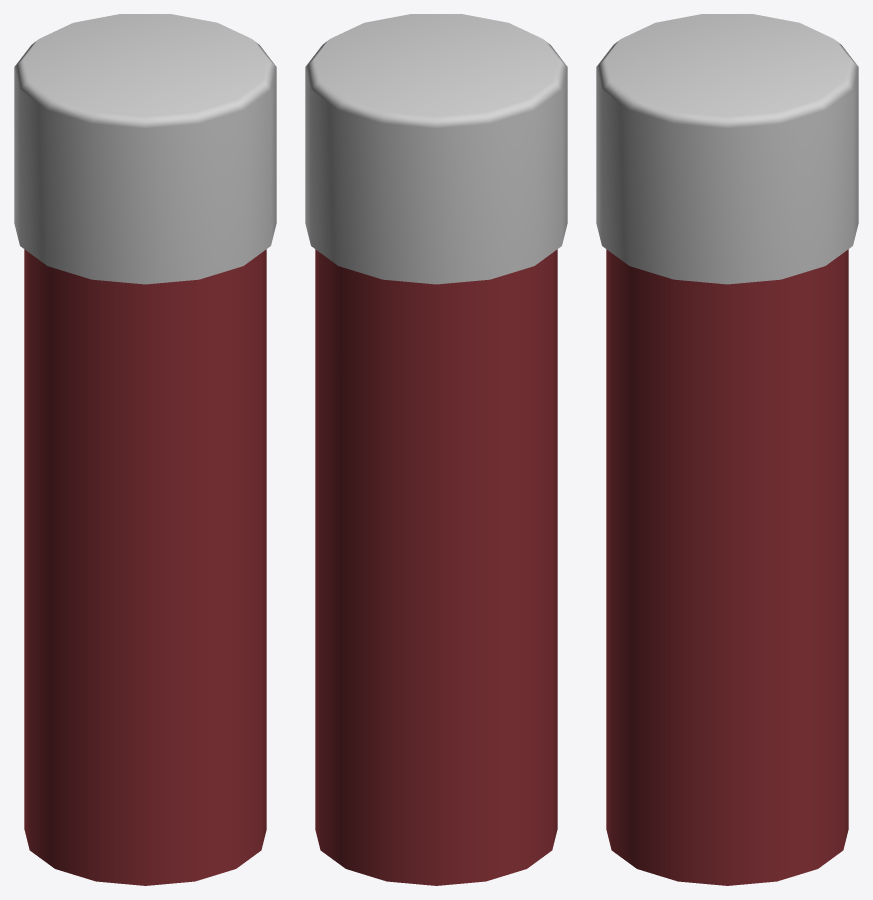
File: misk_capsule3.fbx
The picture shows the model from 3 angles, left to right: view 1: azimuth 30°, elevation 25°; view 2: azimuth 150°, elevation 25°; view 3: azimuth 270°, elevation 25°; orthographic projection.
Visible parts, largest first — view 1: parcelSmall_mesh; view 2: parcelSmall_mesh; view 3: parcelSmall_mesh.
Boxes of the visible parts, <box> form: parcelSmall_mesh: <box>14,14,276,885</box>; parcelSmall_mesh: <box>305,14,567,885</box>; parcelSmall_mesh: <box>596,14,858,885</box>.
Bounding box in the file's own units: 0.1262 × 0.4107 × 0.1269.
